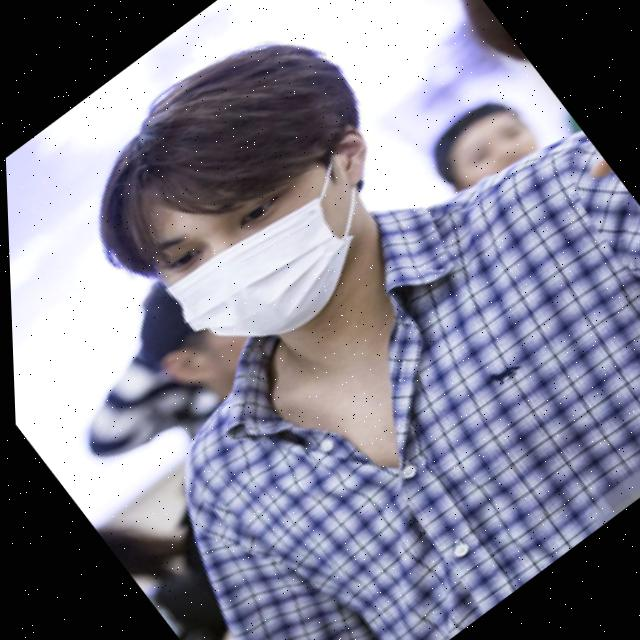Mask: (149, 158, 402, 378)
